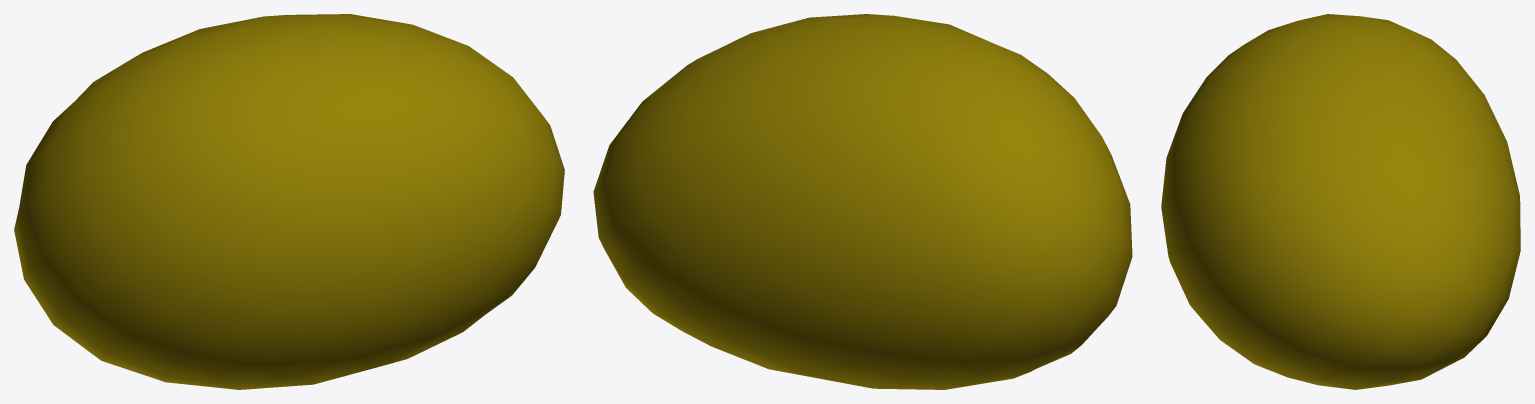
The model's file is Gold-Nugget-3.fbx.
The picture shows the model from 3 angles, left to right: view 1: azimuth 30°, elevation 25°; view 2: azimuth 150°, elevation 25°; view 3: azimuth 270°, elevation 25°; orthographic projection. The views are drawn at different scales.
Parts seen in each view (by area): view 1: Stone 2.001; view 2: Stone 2.001; view 3: Stone 2.001.
Part boxes in pixels (box(x1,y1,x2,y2)): Stone 2.001: box(14, 14, 564, 389); Stone 2.001: box(593, 14, 1132, 389); Stone 2.001: box(1161, 14, 1520, 389).
Size of the model in its own units: 213 by 131 by 150.
